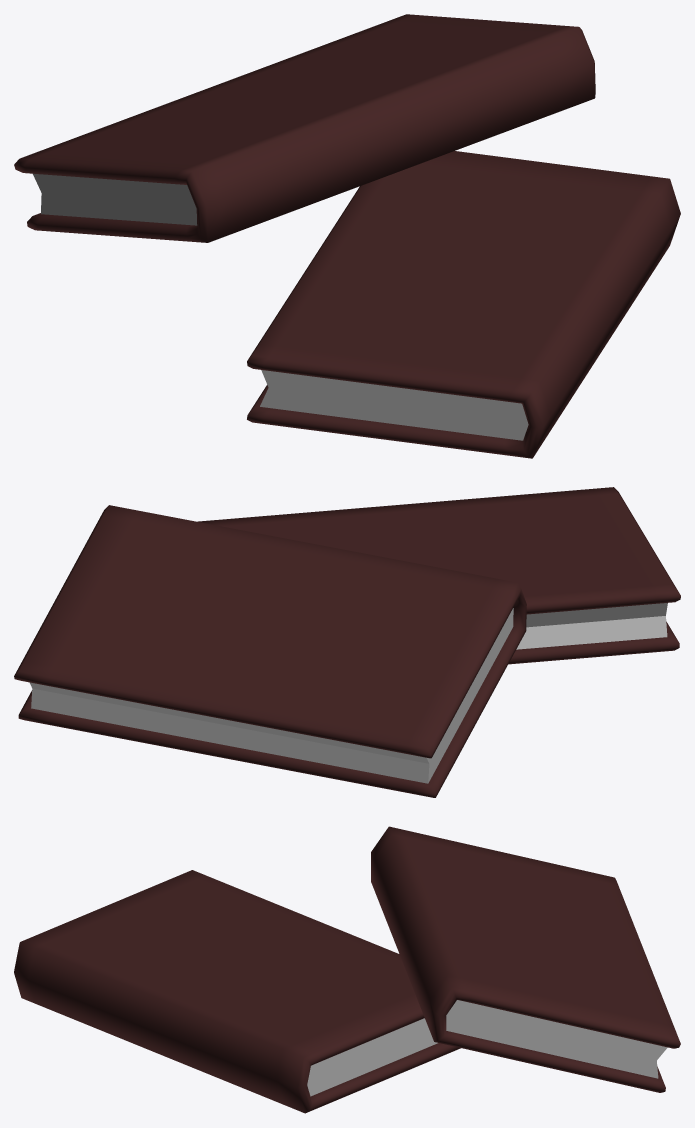
Rendered from books.glb.
The picture shows the model from 3 angles, top to bottom: view 1: azimuth 30°, elevation 25°; view 2: azimuth 150°, elevation 25°; view 3: azimuth 270°, elevation 25°; orthographic projection. The views are drawn at different scales.
Visible parts, largest first — view 1: Books; view 2: Books; view 3: Books.
Boxes of the visible parts, x1,y1,x2,y2 form: Books: [14, 14, 680, 458]; Books: [14, 487, 680, 797]; Books: [14, 826, 680, 1113].
Bounding box in the file's own units: 0.3813 × 0.1201 × 0.5373.
